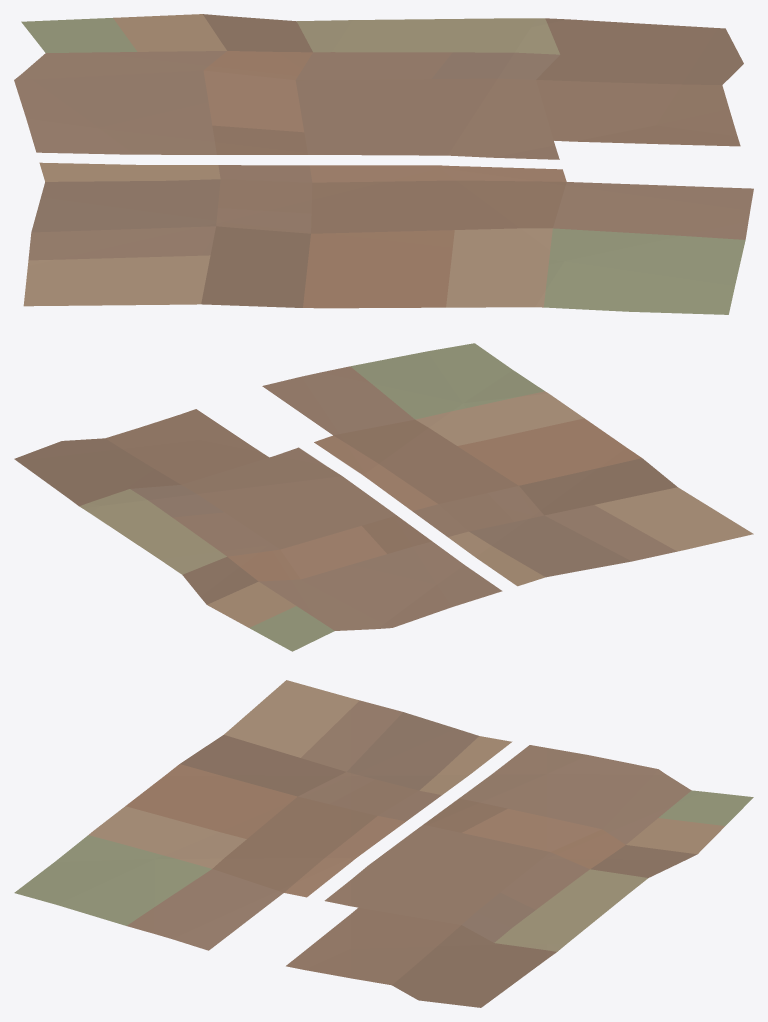
Rendered from farm_9_17_soil.glb.
3 views of the same model, one above another, from view 1: azimuth 30°, elevation 25°; view 2: azimuth 150°, elevation 25°; view 3: azimuth 270°, elevation 25° (orthographic). The views are drawn at different scales.
Visible parts, largest first — view 1: geometry_0; view 2: geometry_0; view 3: geometry_0.
Boxes of the visible parts, x1,y1,x2,y2 form: geometry_0: (14,14,753,314); geometry_0: (14,343,753,651); geometry_0: (14,680,753,1007).
Bounding box in the file's own units: 306 × 5.4 × 302.
